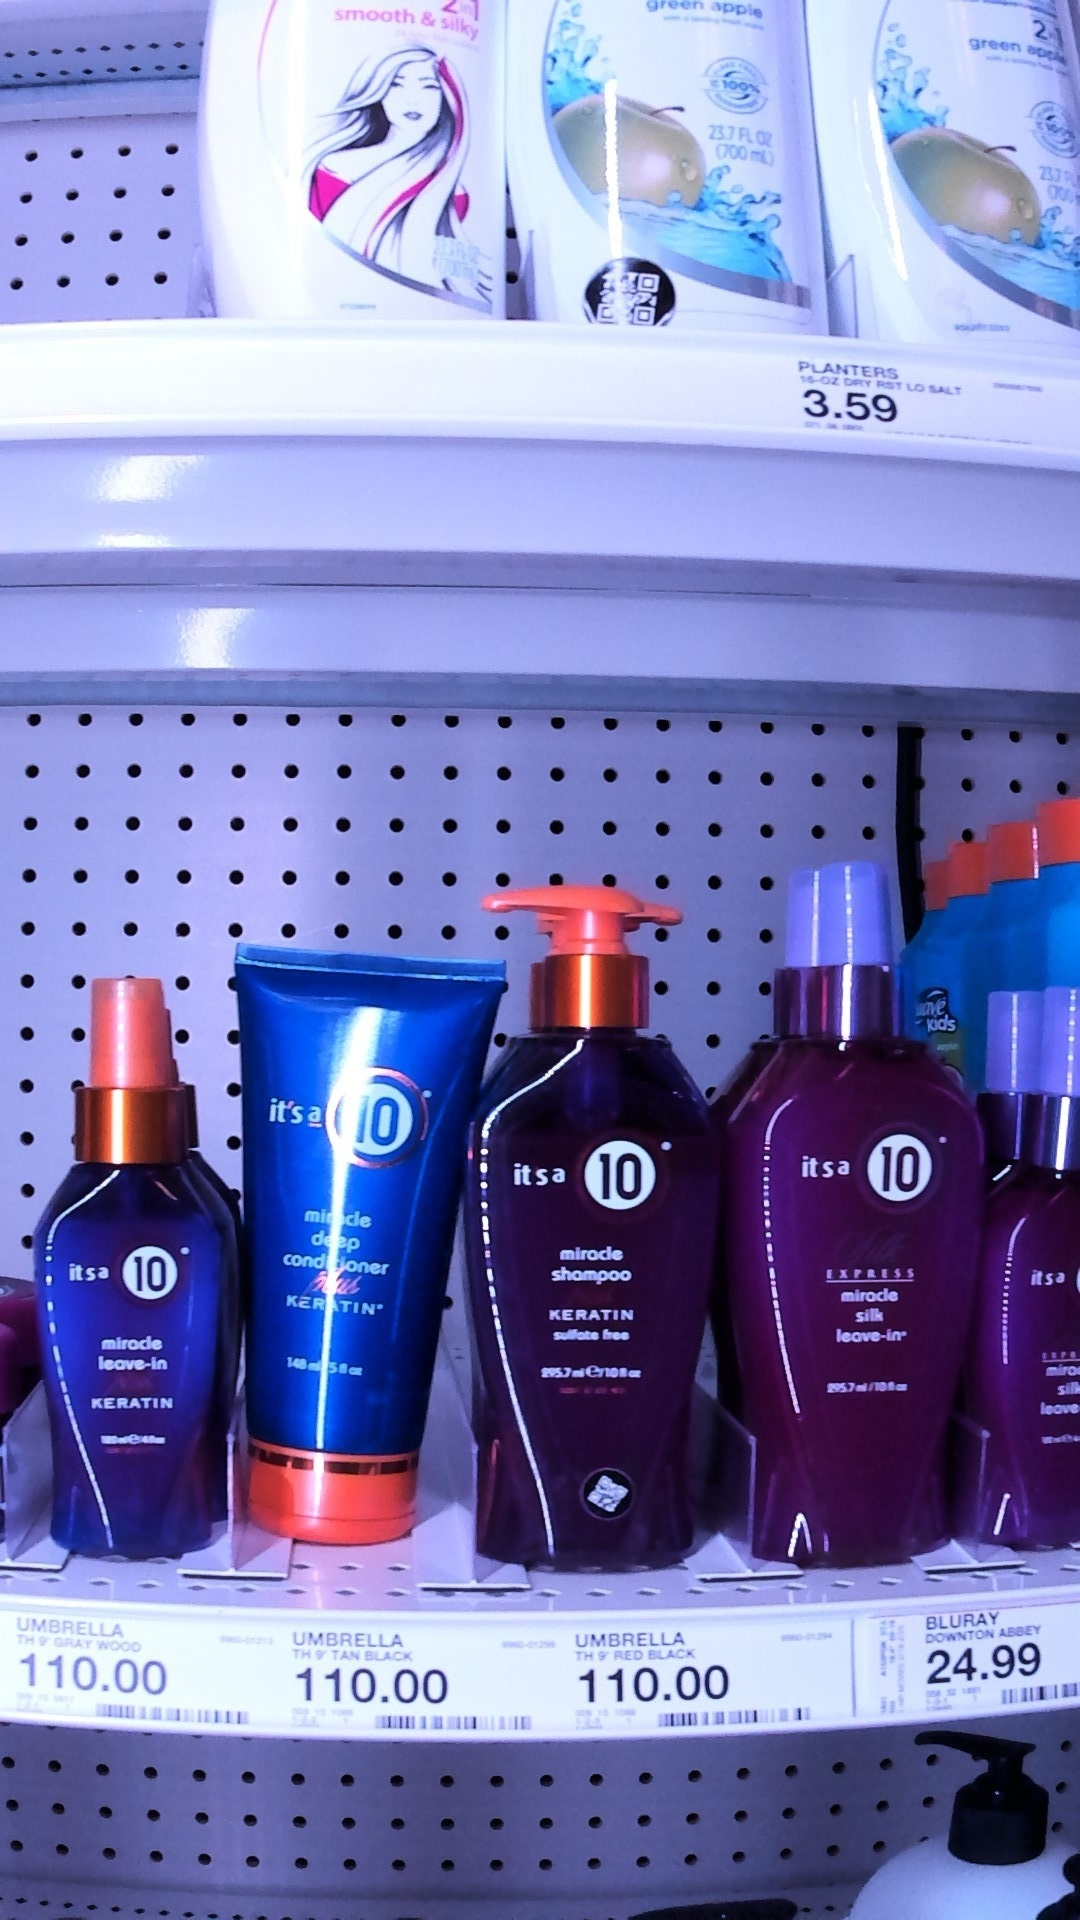ptag: (286, 1606, 529, 1735), (9, 1606, 253, 1729), (795, 342, 1044, 460), (568, 1613, 806, 1737), (858, 1611, 1080, 1709)
